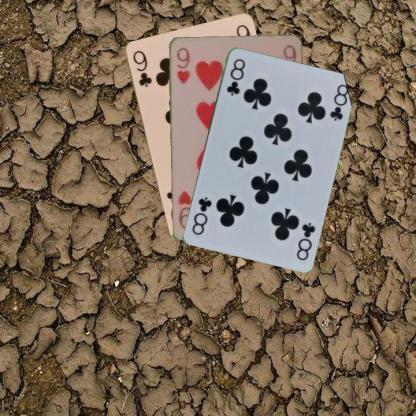8c: (294, 219, 316, 262), (224, 56, 246, 98)
9c: (130, 48, 153, 88)
9h: (174, 44, 191, 86)
